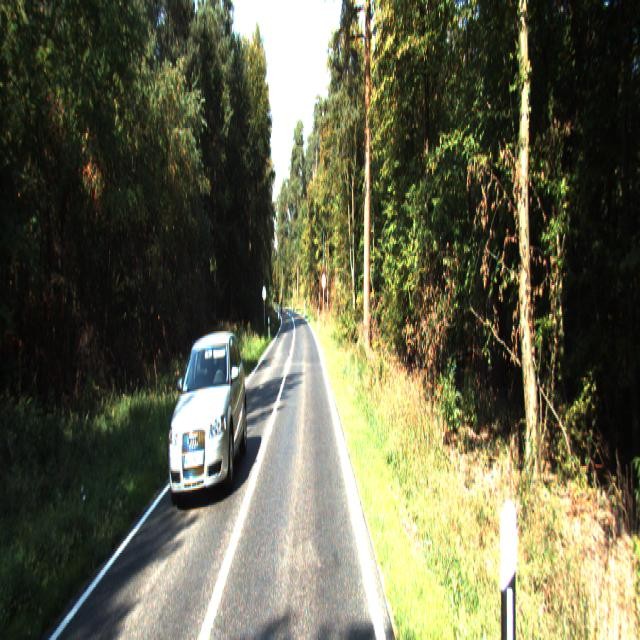Car: (165, 327, 251, 508)
